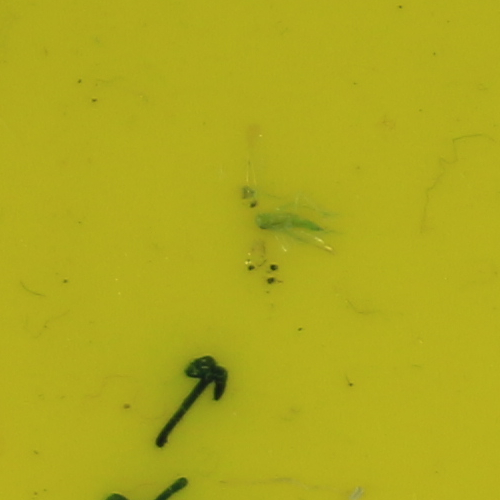psylla: (250, 207, 327, 235)
